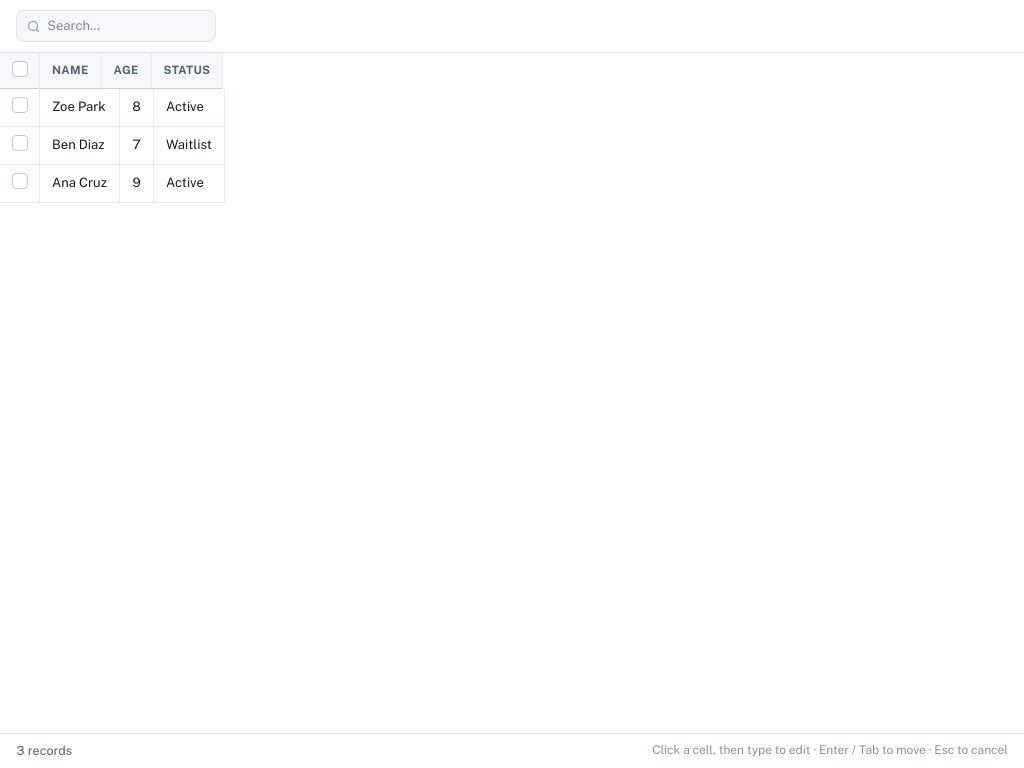
DataGrid › edits a text cell on double-click and commits with Enter
Double-click the text "Zoe Park" at [79, 107], box [52,99,106,114]
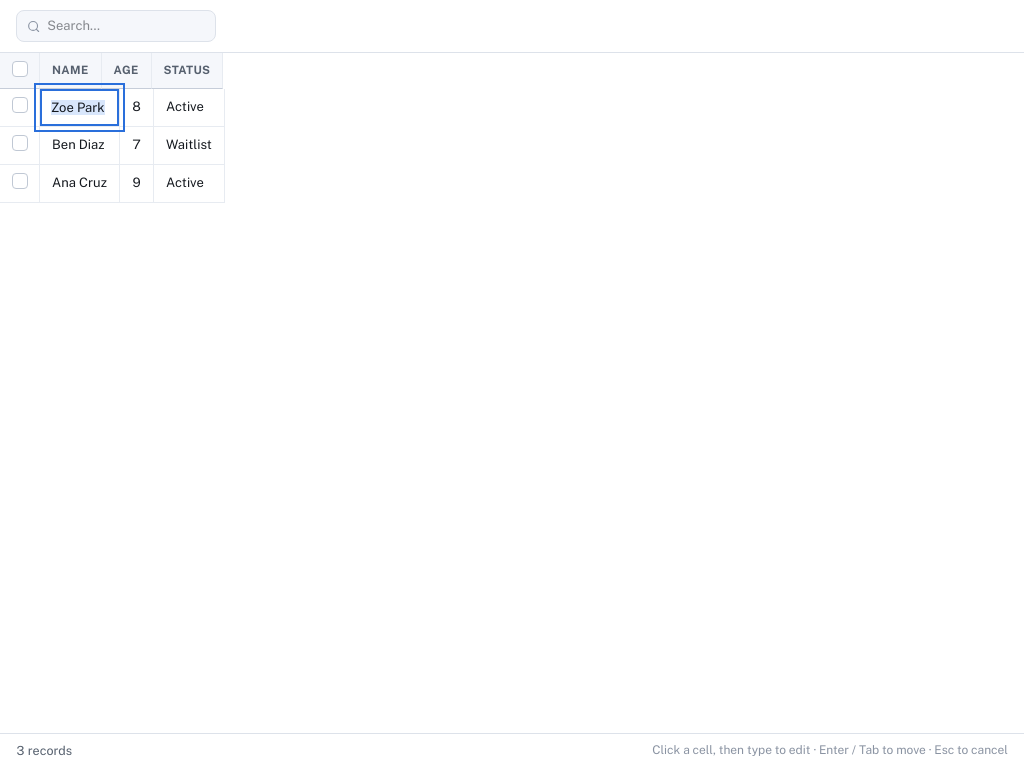
Replace the text in the field named "Name" with "Zoe Parker" at [79, 108], box [40,89,119,126]
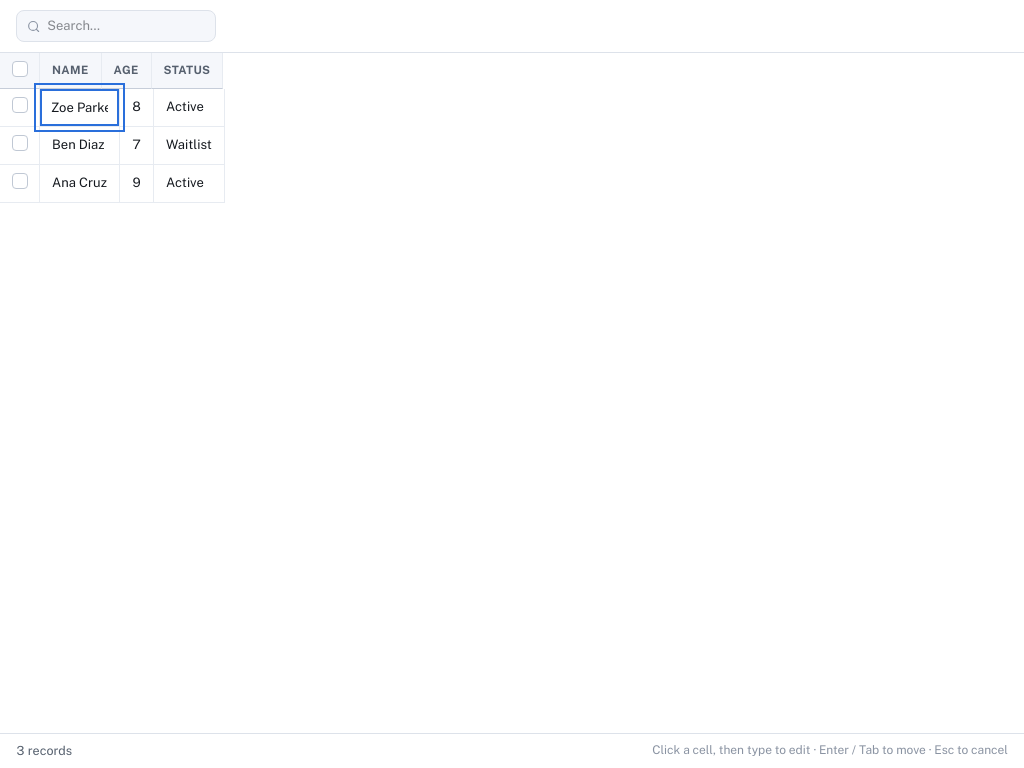
Press Enter in the field named "Name", box [40,89,119,126]
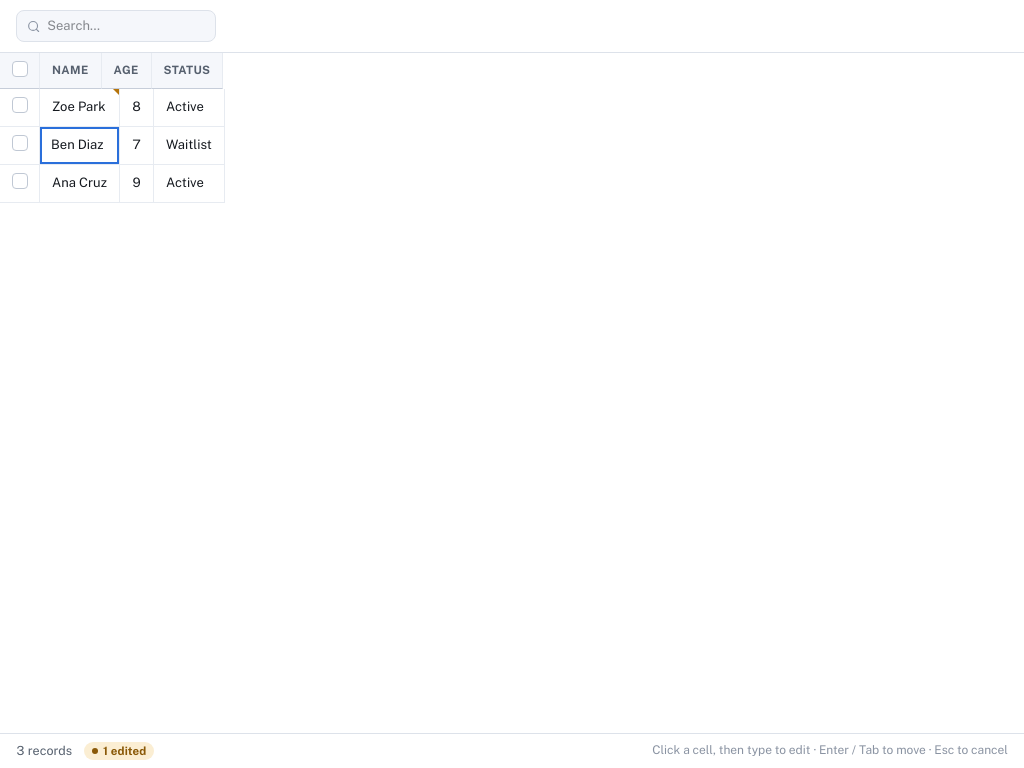
Expected: the text "1 edited" is shown, [84,742,154,760]
